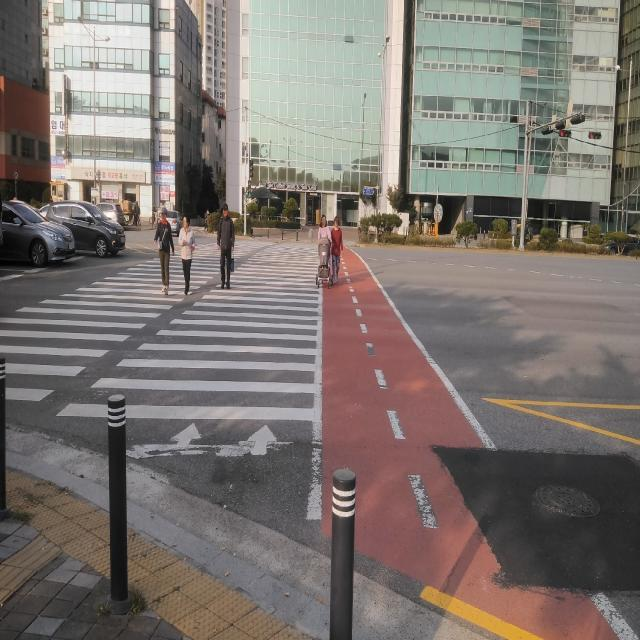횡단보도: (0, 236, 324, 457)
